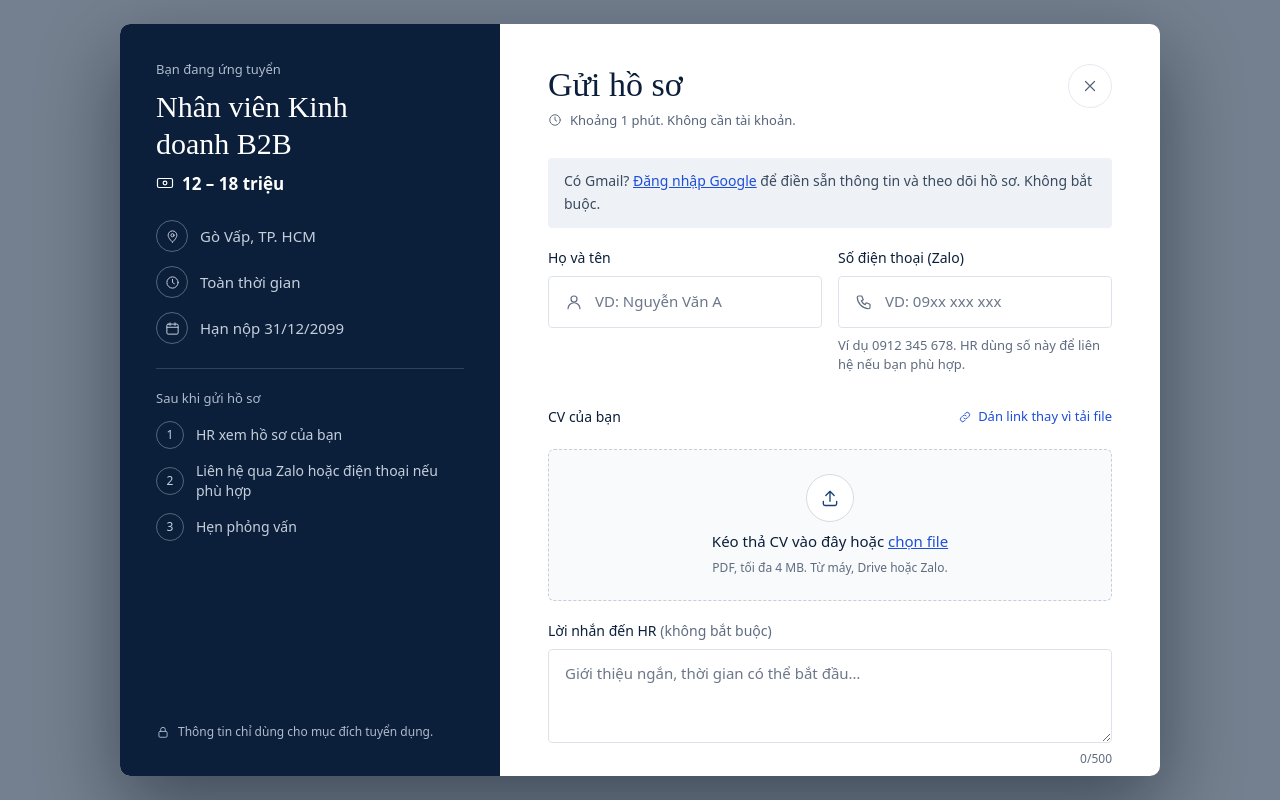
it: ApplyDialog › should say the phone number is wrong only when one was typed
The image size is (1280, 800).
In the field labelled "Số điện thoại (Zalo)": (990, 302) top-left (885, 290), bottom-right (1095, 313), type "0912"
(page scrolled)
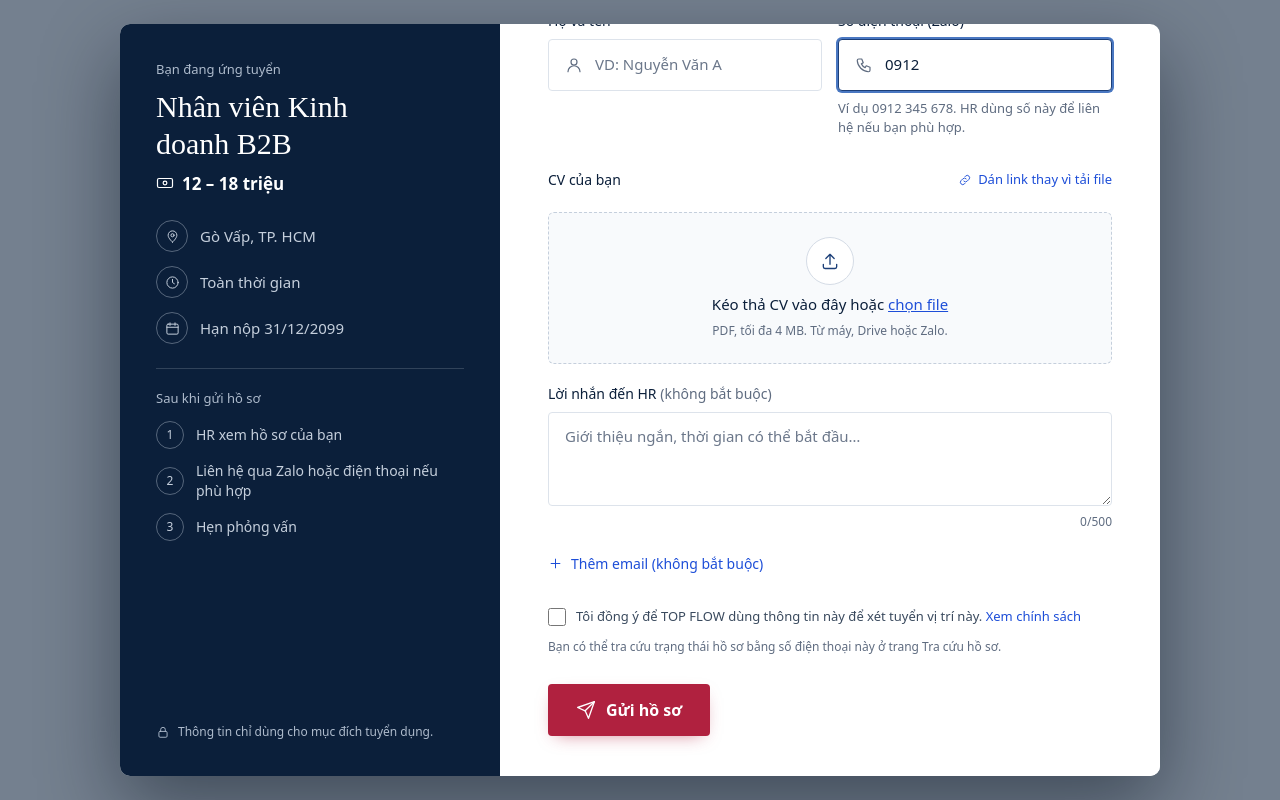
Click the button "Gửi hồ sơ": (629, 710) top-left (548, 684), bottom-right (710, 736)
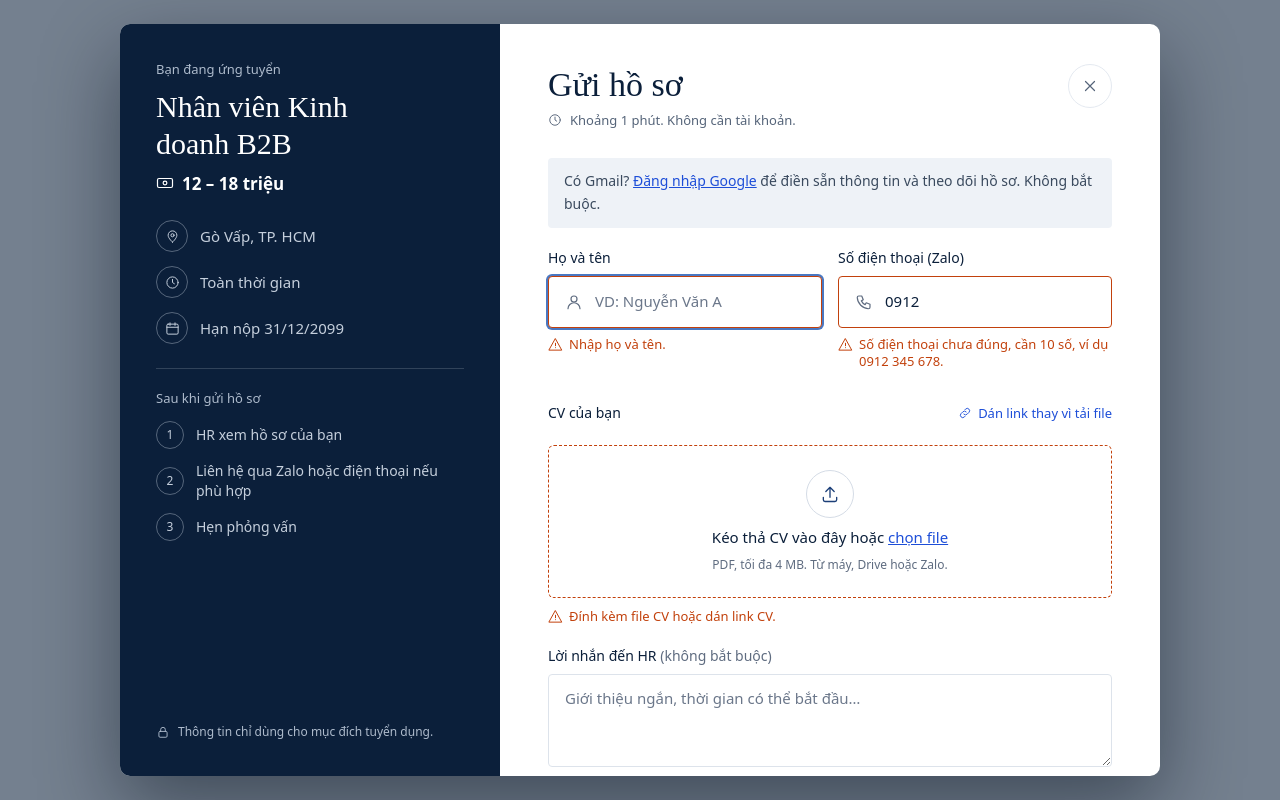
Expected: the text "Số điện thoại chưa đúng, cần 10 số, ví dụ 0912 345 678." is shown, top-left (859, 336), bottom-right (1112, 371)
